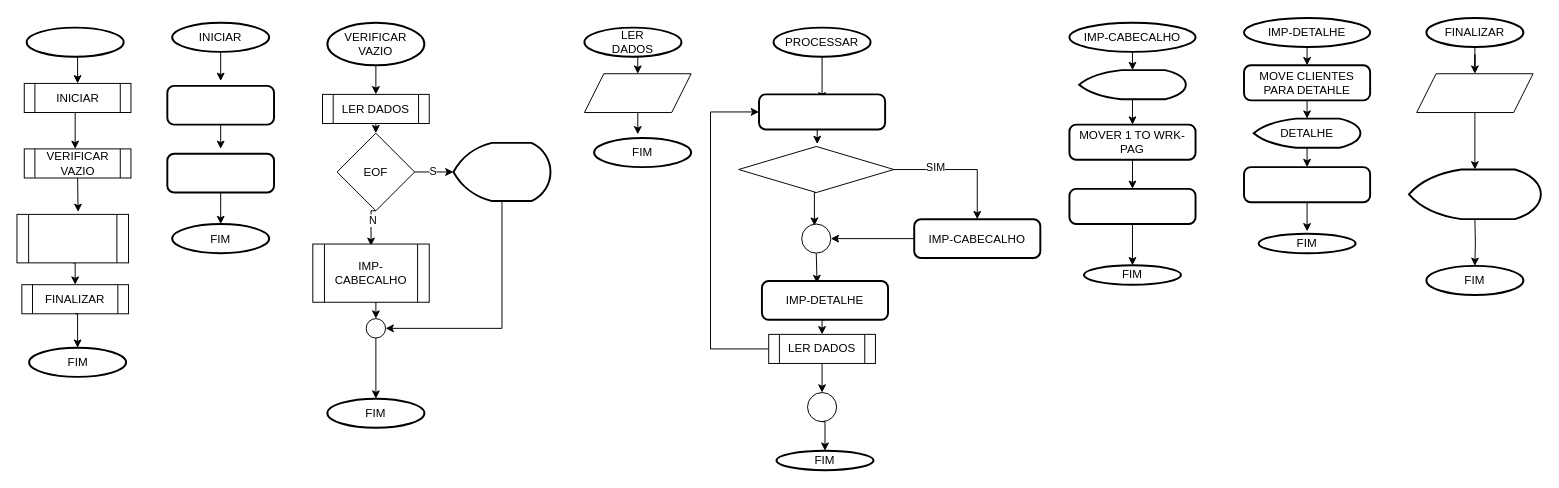
Some shapes in this 1559 by 488 pixel diagram are drawn without their labels. Each missing label, with the centre of its shape:
ABRIR CLIENTES: (x=220, y=104)
ACUMLIDOS: (x=1474, y=194)
ACUMLIDOS + 1: (x=822, y=111)
ACUMLIDOS = 0 QT-LINHAS = 0 WRK-PAG = 1: (x=220, y=172)
ARQUIVO CLIENTES VAZIO: (x=501, y=171)
CABECALHO: (x=1132, y=84)
FECHAR CLIENTES: (x=1474, y=93)
INICIO: (x=74, y=41)
LER CLIENTES: (x=637, y=93)
MOVER 4 TO QT-LINHAS: (x=1132, y=205)
PROCESSAR até EOF de CLIENTES: (x=72, y=238)
QT-LINHAS + 1: (x=1307, y=184)
QT-LINHAS > 12: (x=816, y=169)
